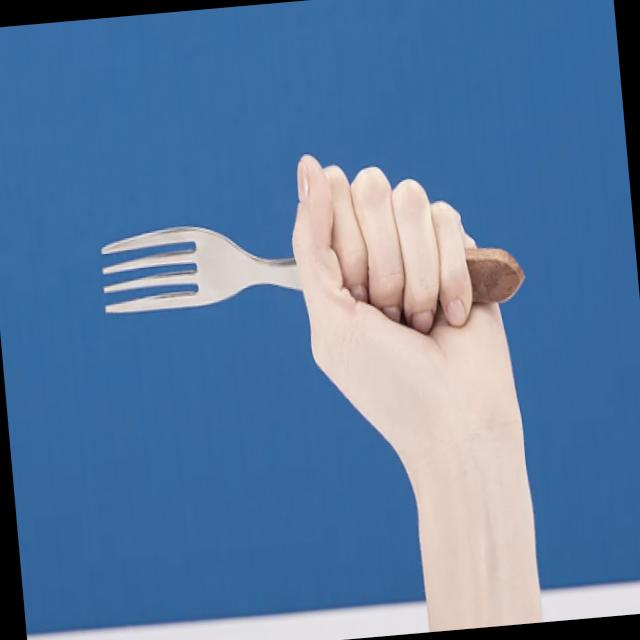fork: (98, 193, 528, 341), (86, 184, 87, 187)
